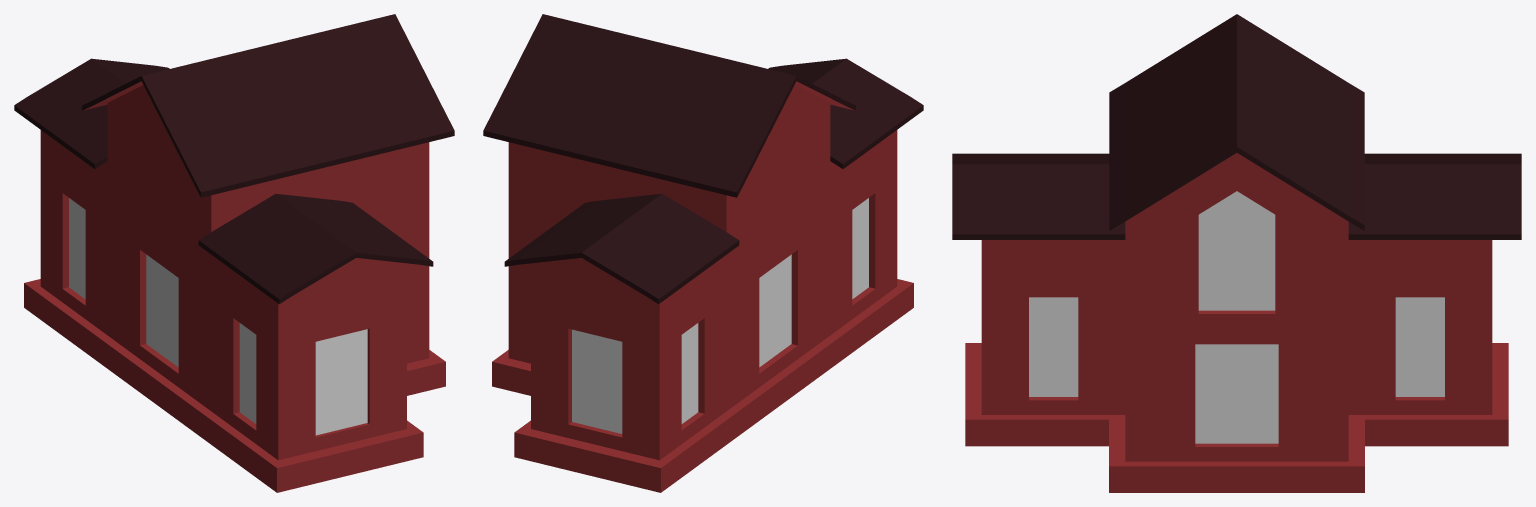
File: House.fbx
3 renders of one model, left to right at view 1: azimuth 30°, elevation 25°; view 2: azimuth 150°, elevation 25°; view 3: azimuth 270°, elevation 25°, orthographic. The views are drawn at different scales.
Parts seen in each view (by area): view 1: Plane; view 2: Plane; view 3: Plane.
Part boxes in pixels (box(x1,y1,x2,y2)): Plane: box(14, 14, 454, 492); Plane: box(483, 14, 923, 492); Plane: box(952, 14, 1521, 492).
Bounding box in the file's own units: 794 × 977 × 1438.
